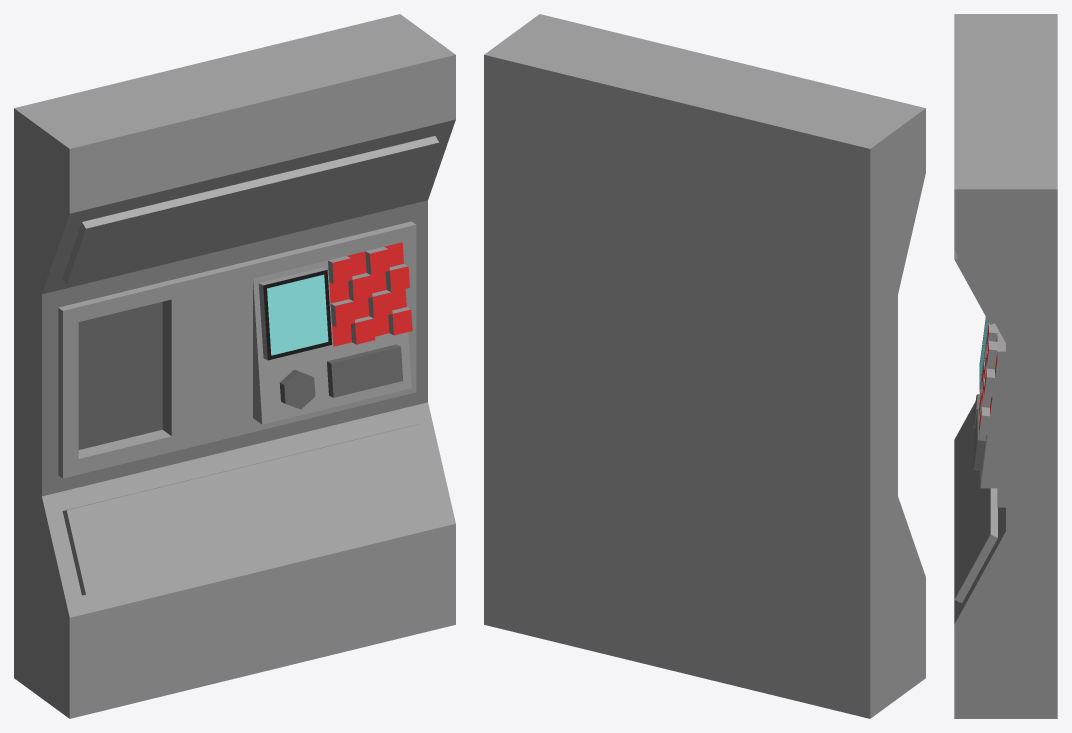
Rendered from SciFi_Wall_Panel_Console_Grey_01.fbx.
3 renders of one model, left to right at view 1: azimuth 30°, elevation 25°; view 2: azimuth 150°, elevation 25°; view 3: azimuth 270°, elevation 25°, orthographic. The views are drawn at different scales.
Parts seen in each view (by area): view 1: Model; view 2: Model; view 3: Model.
Part boxes in pixels (x1=…): Model: x1=14, y1=14, x2=455, y2=718; Model: x1=484, y1=14, x2=925, y2=718; Model: x1=954, y1=14, x2=1057, y2=718.
Size of the model in its own units: 1000 by 1410 by 250.
